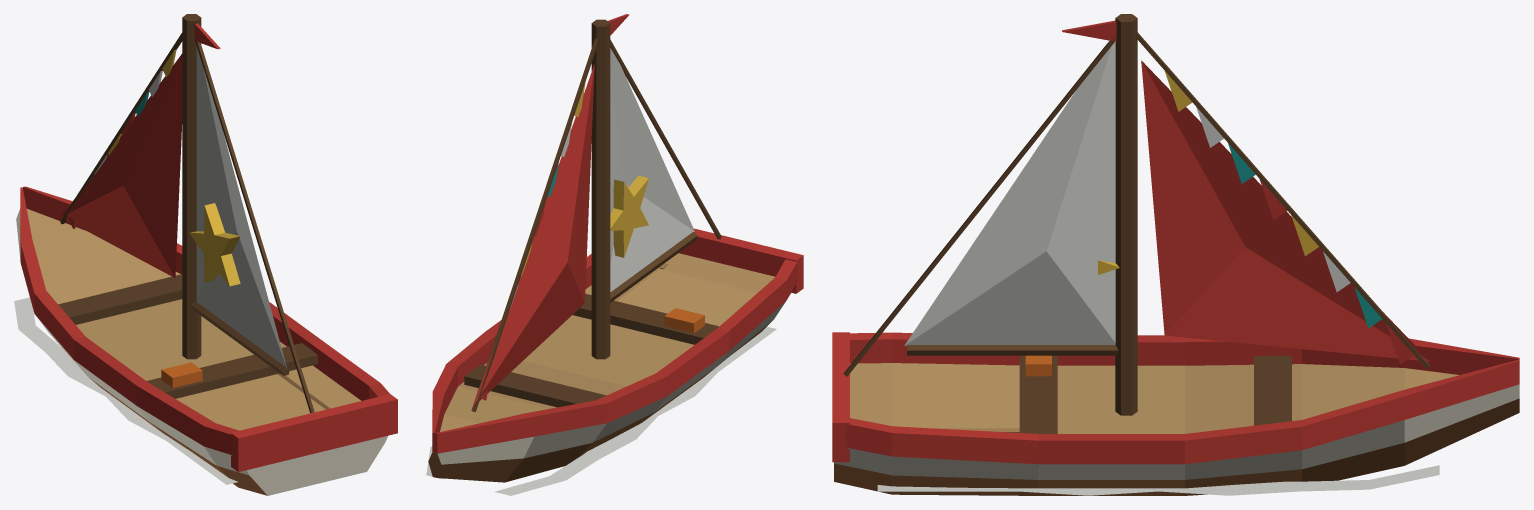
Rendered from Decor_BeachBar_Boat.fbx.
The picture shows the model from 3 angles, left to right: view 1: azimuth 30°, elevation 25°; view 2: azimuth 150°, elevation 25°; view 3: azimuth 270°, elevation 25°; orthographic projection. The views are drawn at different scales.
Parts seen in each view (by area): view 1: Boat_Body; view 2: Boat_Body; view 3: Boat_Body.
Boxes of the visible parts, left/top/right/bottom form: Boat_Body: left=14, top=14, right=397, bottom=495; Boat_Body: left=426, top=14, right=803, bottom=495; Boat_Body: left=832, top=14, right=1519, bottom=495.
Bounding box in the file's own units: 8.6 × 17 × 23.73.
